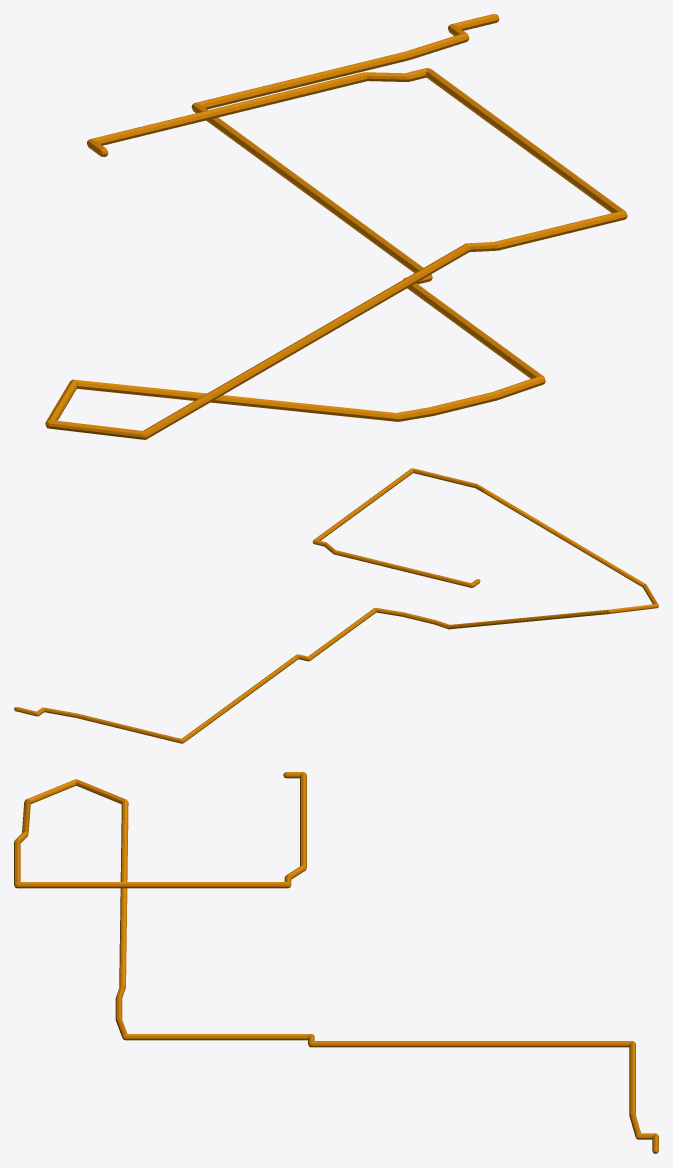
3 renders of one model, top to bottom at view 1: azimuth 30°, elevation 25°; view 2: azimuth 150°, elevation 25°; view 3: azimuth 270°, elevation 25°, orthographic. The views are drawn at different scales.
Size of the model in its own units: 2062 by 520 by 1907.
